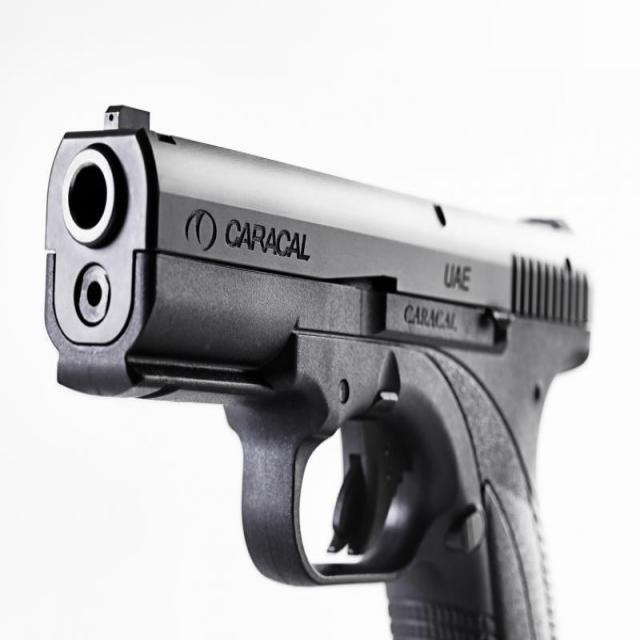Gun: (27, 87, 594, 640)
